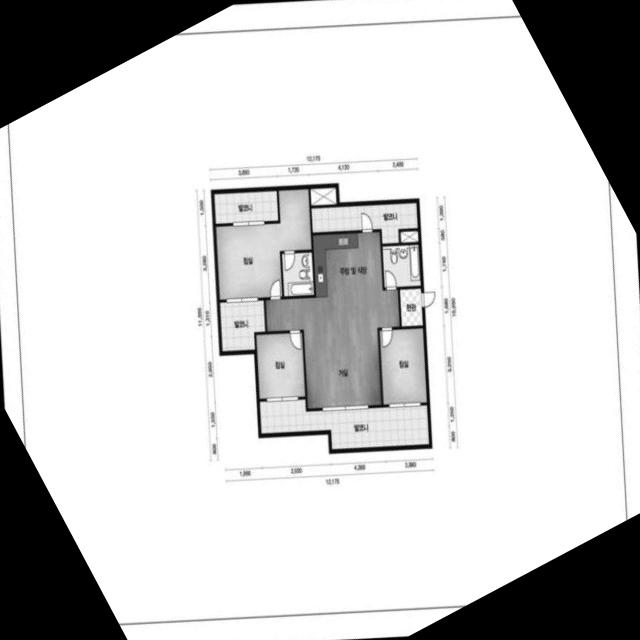background: (0, 0, 640, 640)
space_balconi: (259, 399, 429, 449), (311, 202, 417, 243), (220, 300, 265, 351), (214, 190, 278, 223)
space_bedroom: (216, 189, 311, 299), (379, 328, 426, 404), (256, 332, 305, 398)
space_front: (399, 288, 422, 326)
space_kitchen: (313, 232, 382, 297)
space_living_room: (265, 290, 399, 408)
space_other: (310, 187, 336, 205), (400, 230, 418, 242)
space_toilet: (382, 244, 420, 287), (282, 252, 313, 296)
